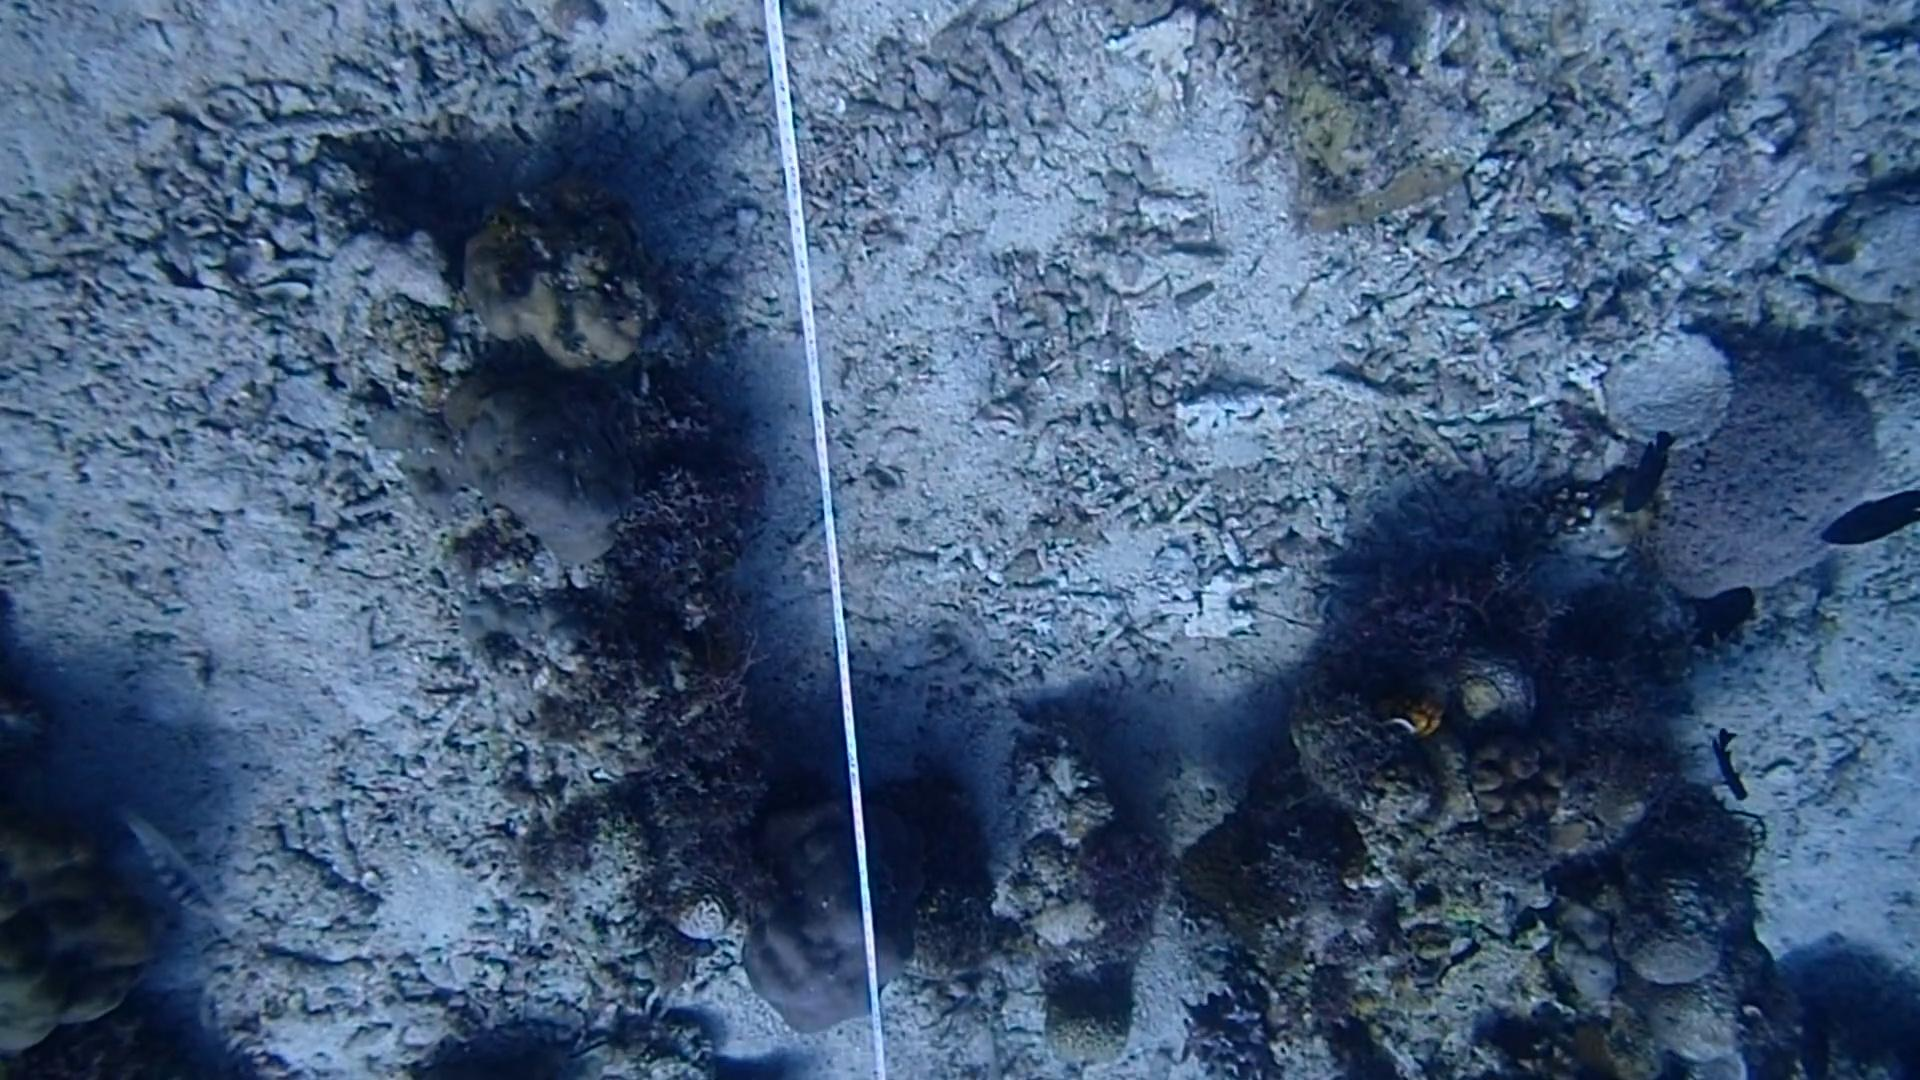Dark Fish: (1812, 480, 1920, 570), (1681, 585, 1764, 675), (1696, 719, 1767, 818), (1614, 421, 1679, 525)
Light Fish w Back Stripes: (117, 800, 219, 932)
